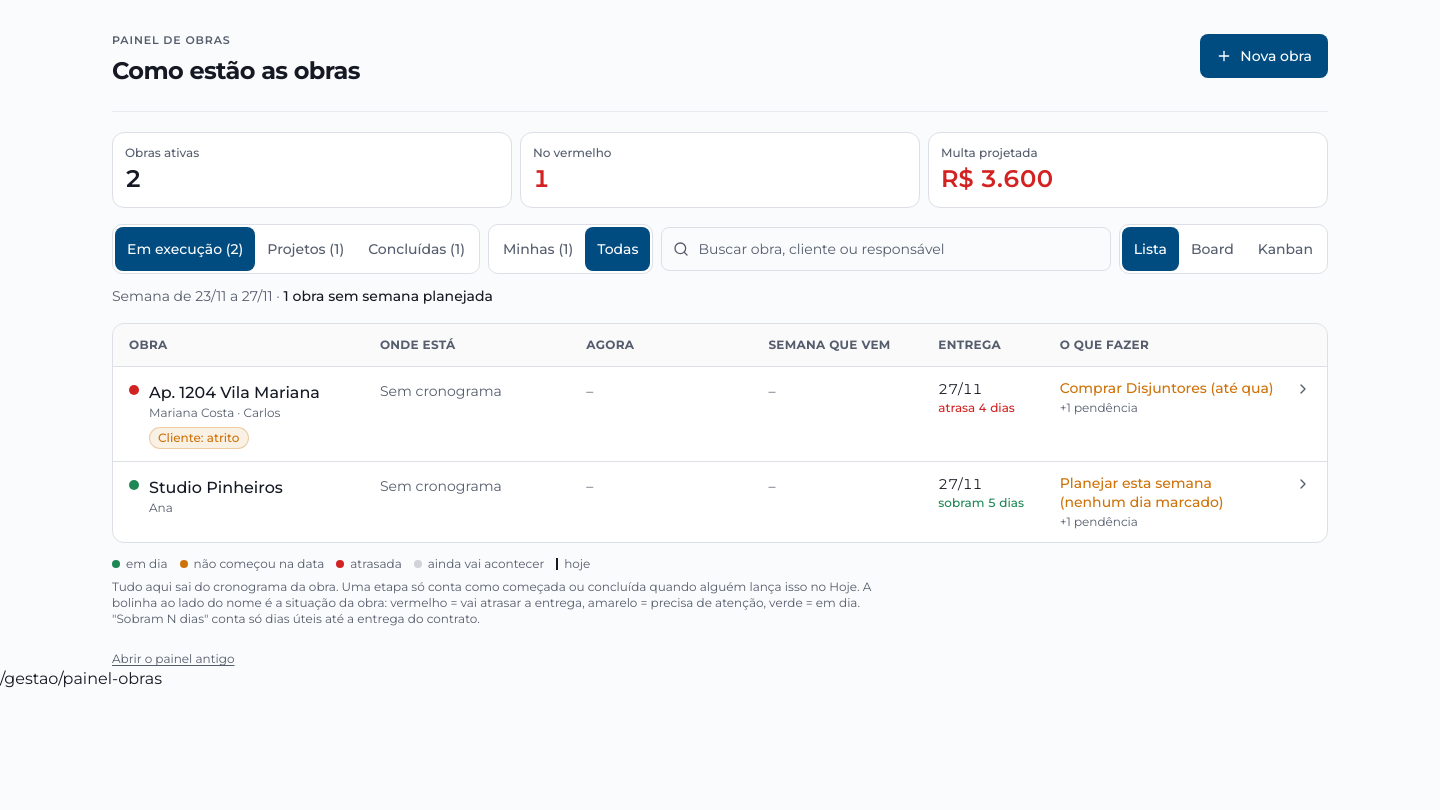
it: Painel de Obras reformulado › escritório › clicar na obra abre a gaveta; a Semana continua a um clique na linha
The image size is (1440, 810).
Click the button "Ap. 1204 Vila Mariana Mariana Costa · Carlos": (252, 400) [149,378,356,422]
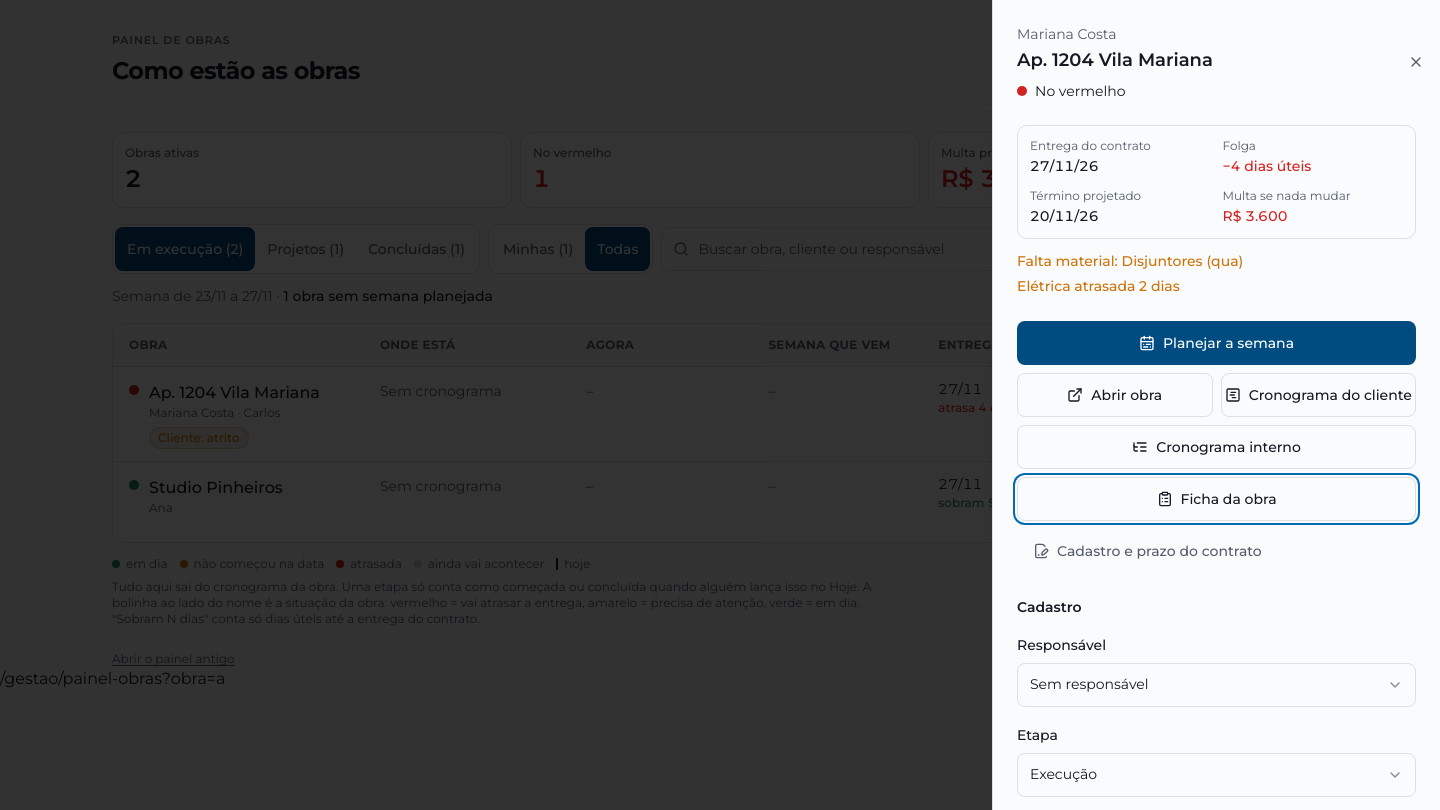
Expected: the text with test id "onde" shows "obra=a", [0,669,226,688]
Expected: the heading "Ap. 1204 Vila Mariana" is shown, [1017,49,1213,71]
